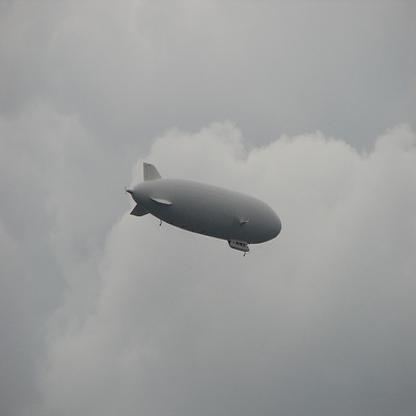Airship: (125, 156, 288, 261)
